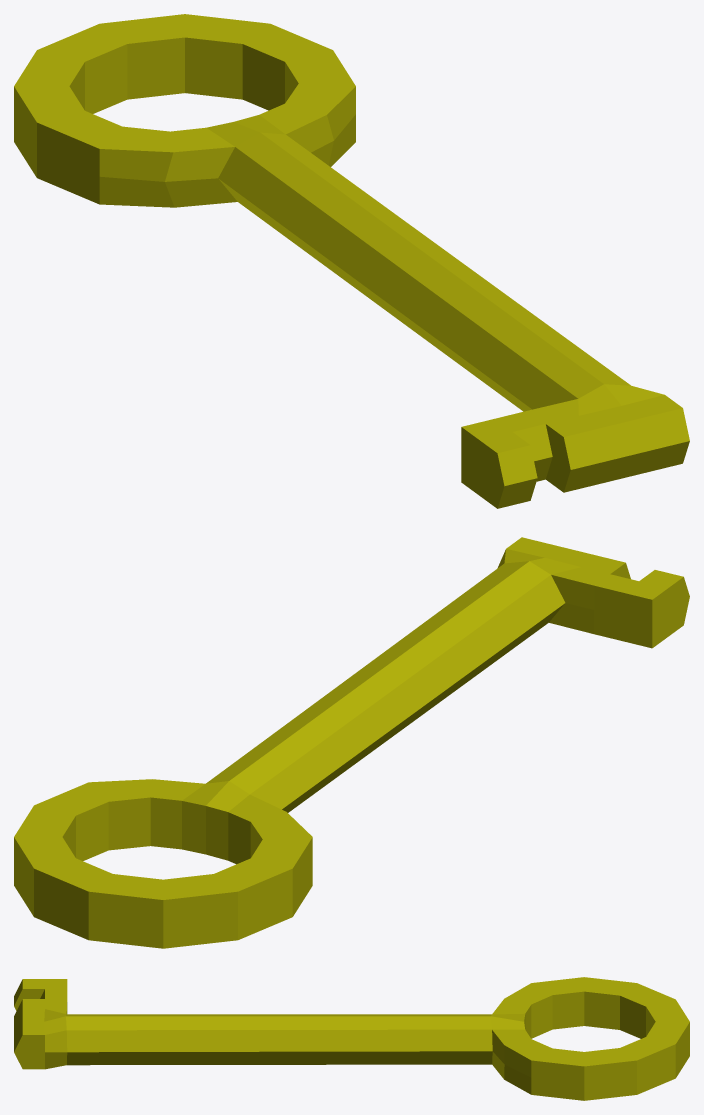
The model's file is Key_01.fbx.
The picture shows the model from 3 angles, top to bottom: view 1: azimuth 30°, elevation 25°; view 2: azimuth 150°, elevation 25°; view 3: azimuth 270°, elevation 25°; orthographic projection. The views are drawn at different scales.
Parts seen in each view (by area): view 1: Key_01; view 2: Key_01; view 3: Key_01.
Boxes of the visible parts, box(x1,y1,x2,y2) form: Key_01: box(14, 14, 689, 508); Key_01: box(14, 537, 689, 948); Key_01: box(14, 977, 689, 1100).
Size of the model in its own units: 5.22 by 1.22 by 16.7.
